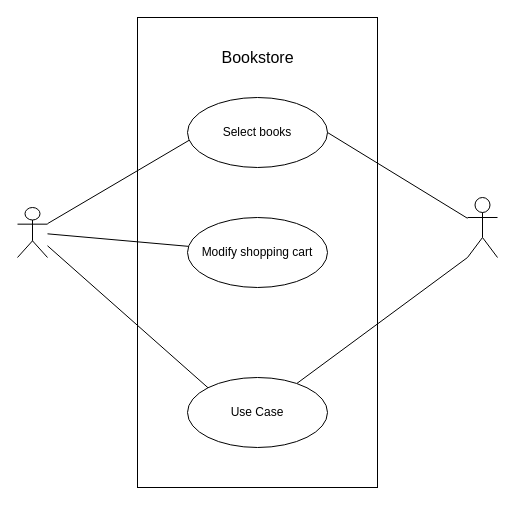
The diagram is 525 pixels wide and 505 high, and some of its shapes have lost their labels. The shapes that lost their labels are listed below. From the top down, each one's centre as x and y in pixels, then its label:
(x=32, y=232): User
(x=482, y=227): Database
